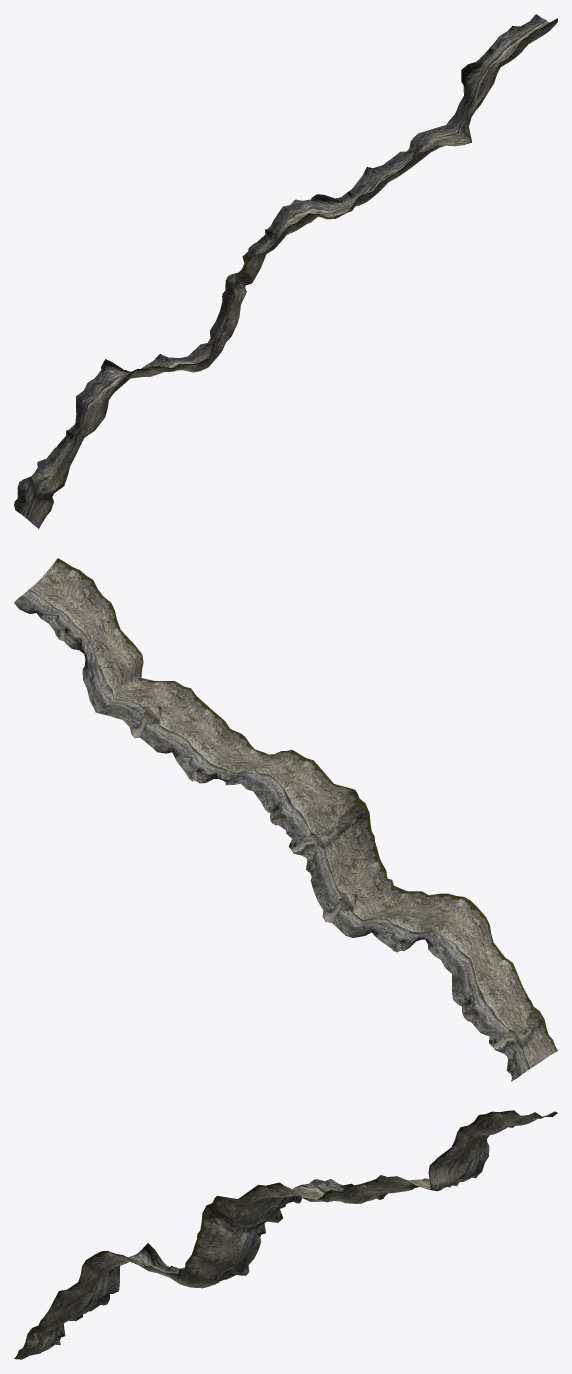
File: cliff02.glb
3 renders of one model, top to bottom at view 1: azimuth 30°, elevation 25°; view 2: azimuth 150°, elevation 25°; view 3: azimuth 330°, elevation 25°, orthographic. The views are drawn at different scales.
Size of the model in its own units: 10398 by 7369 by 1227.
Materials: 5 (5 with a texture image).
